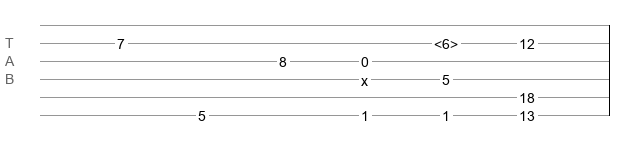0: (361, 54, 369, 64)
1: (361, 108, 369, 118), (442, 108, 450, 118)
12: (519, 36, 535, 46)
13: (519, 108, 535, 118)
18: (519, 90, 535, 100)
5: (198, 108, 206, 118), (442, 72, 450, 82)
7: (117, 36, 125, 46)
8: (279, 54, 287, 64)
harmonic: (434, 36, 458, 46)
x: (361, 73, 368, 81)
